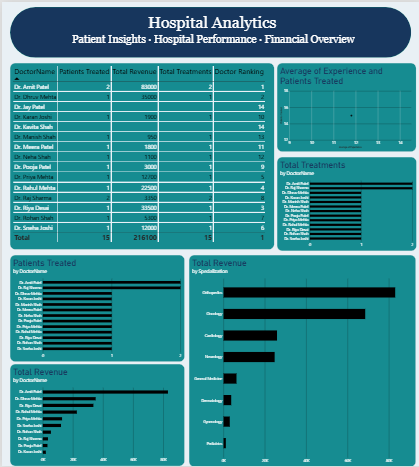

What the dashboard file says about the page in this screenshot:
{"tool":"powerbi","page":{"name":"Doctor Performance","canvas":[2320,2580],"ordinal":3},"visuals":[{"type":"clusteredBarChart","fields":{"Category":["Doctors.DoctorName"],"Y":["Medical Transactions.Patients Treated"]},"box":[43.3,1403.3,970,593.3],"z":0},{"type":"shape","box":[44.5,27.3,2229.4,282.4],"z":1},{"type":"textbox","box":[812.1,60.6,733.3,160.6],"z":3},{"type":"textbox","box":[390.9,169.7,1639.4,97],"z":4},{"type":"clusteredBarChart","fields":{"Category":["Doctors.DoctorName"],"Y":["Medical Transactions.Total Revenue"]},"box":[43.3,2013.3,970,566.7],"z":5},{"type":"clusteredBarChart","fields":{"Category":["Doctors.DoctorName"],"Y":["Medical Transactions.Total Treatments"]},"box":[1526.7,858.3,775,521.7],"z":6},{"type":"clusteredBarChart","fields":{"Category":["Doctors.Specialization"],"Y":["Medical Transactions.Total Revenue"]},"box":[1040,1403.3,1260,1176.7],"z":7},{"type":"scatterChart","fields":{"X":["Avg(Doctors.Experience)"],"Y":["Medical Transactions.Patients Treated"]},"box":[1527.5,340,773.3,493.3],"z":8},{"type":"tableEx","fields":{"Values":["Doctors.DoctorName","Medical Transactions.Patients Treated","Medical Transactions.Total Revenue","Medical Transactions.Total Treatments","Medical Transactions.Doctor Ranking"]},"box":[46,340,1468,1036],"z":9}]}

Visuals, with their boxes in screenshot pixels (x1, y1, x2, y2), scaled from the page's 2320x2580 canvas onto the 419x467 screenshot:
clusteredBarChart - Doctors.DoctorName x Medical Transactions.Patients Treated: rect(8, 254, 183, 361)
shape: rect(8, 5, 411, 56)
textbox: rect(147, 11, 279, 40)
textbox: rect(71, 31, 367, 48)
clusteredBarChart - Doctors.DoctorName x Medical Transactions.Total Revenue: rect(8, 364, 183, 466)
clusteredBarChart - Doctors.DoctorName x Medical Transactions.Total Treatments: rect(276, 155, 416, 250)
clusteredBarChart - Doctors.Specialization x Medical Transactions.Total Revenue: rect(188, 254, 415, 466)
scatterChart - Avg(Doctors.Experience) x Medical Transactions.Patients Treated: rect(276, 62, 416, 151)
tableEx - Doctors.DoctorName x Medical Transactions.Patients Treated: rect(8, 62, 273, 249)
